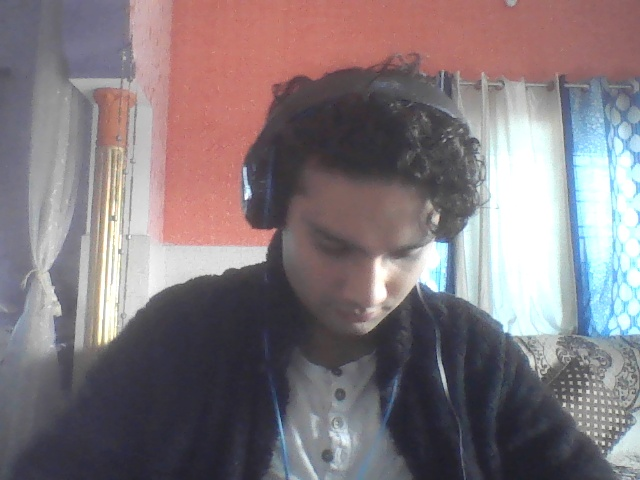real: (253, 97, 442, 365)
